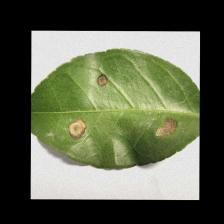canker: (64, 68, 184, 147)
